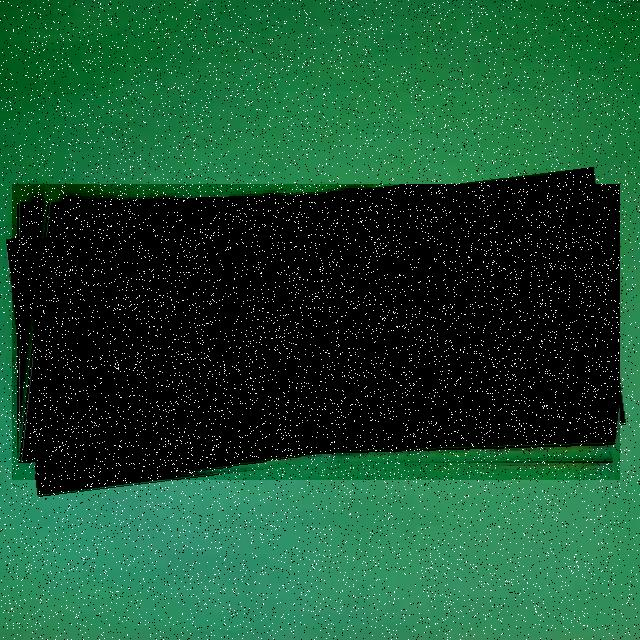lima puluh ribu rupiah: (12, 184, 620, 480)
